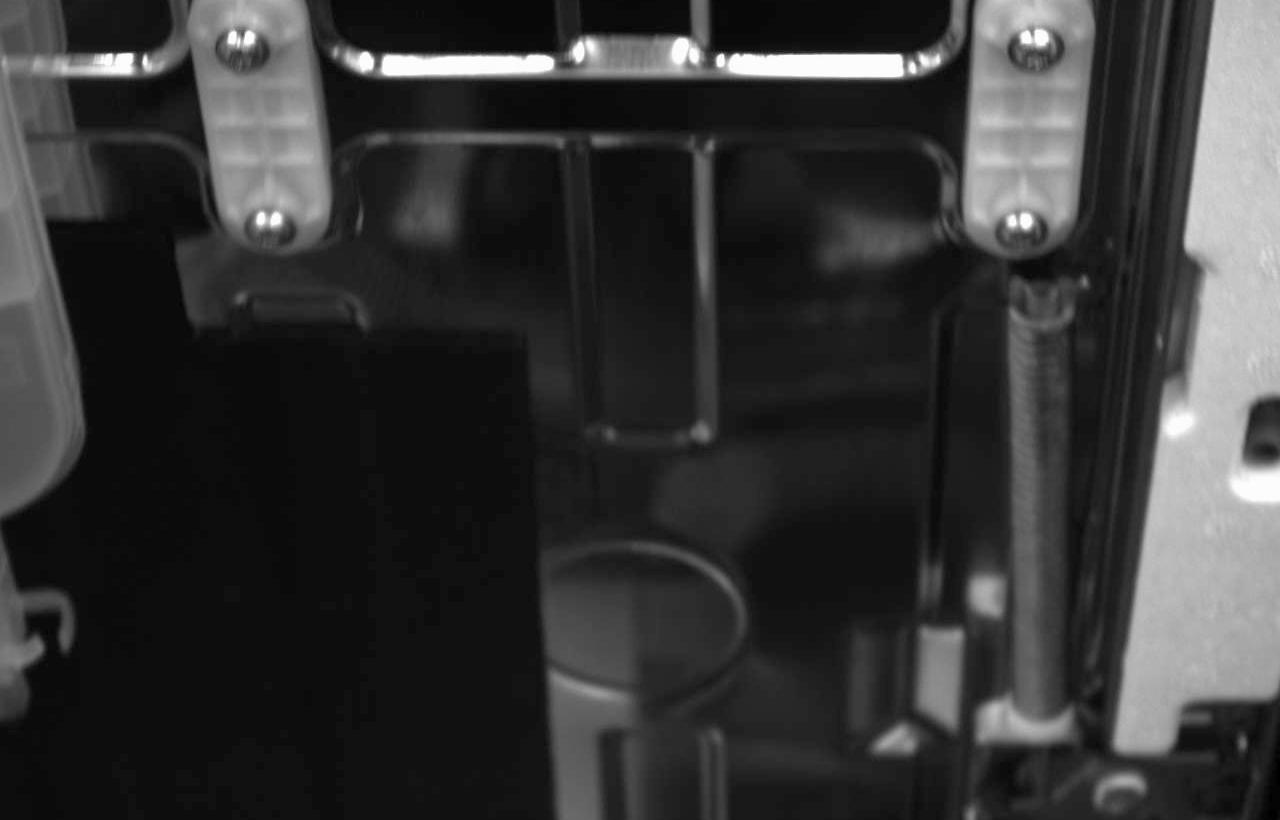vida-ok: (201, 15, 273, 82), (987, 192, 1053, 261), (1003, 17, 1070, 84), (237, 201, 303, 259)
